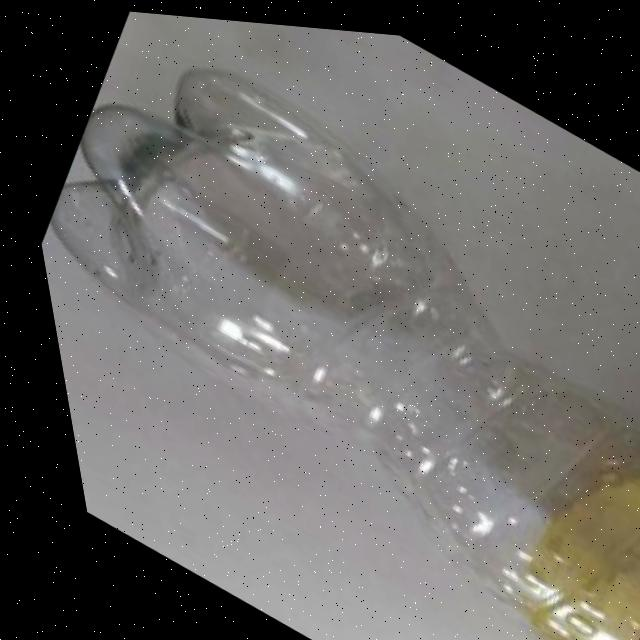sise: (0, 1, 640, 640)
